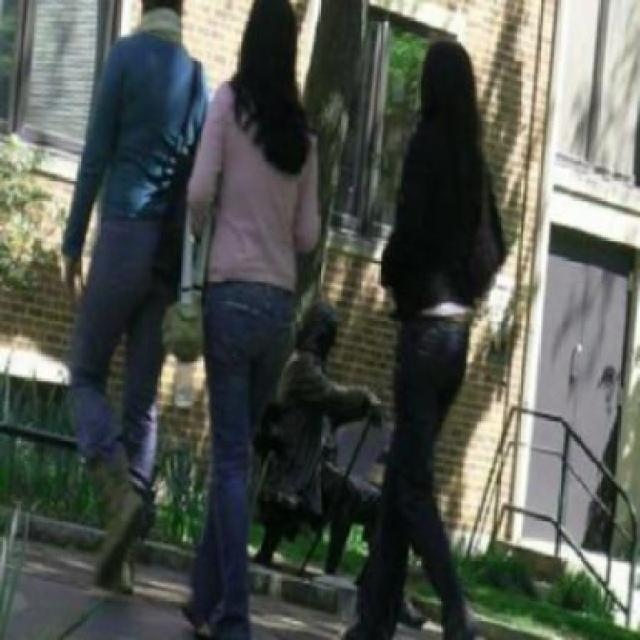Person: (351, 32, 512, 638), (188, 0, 328, 638), (60, 0, 201, 592)
